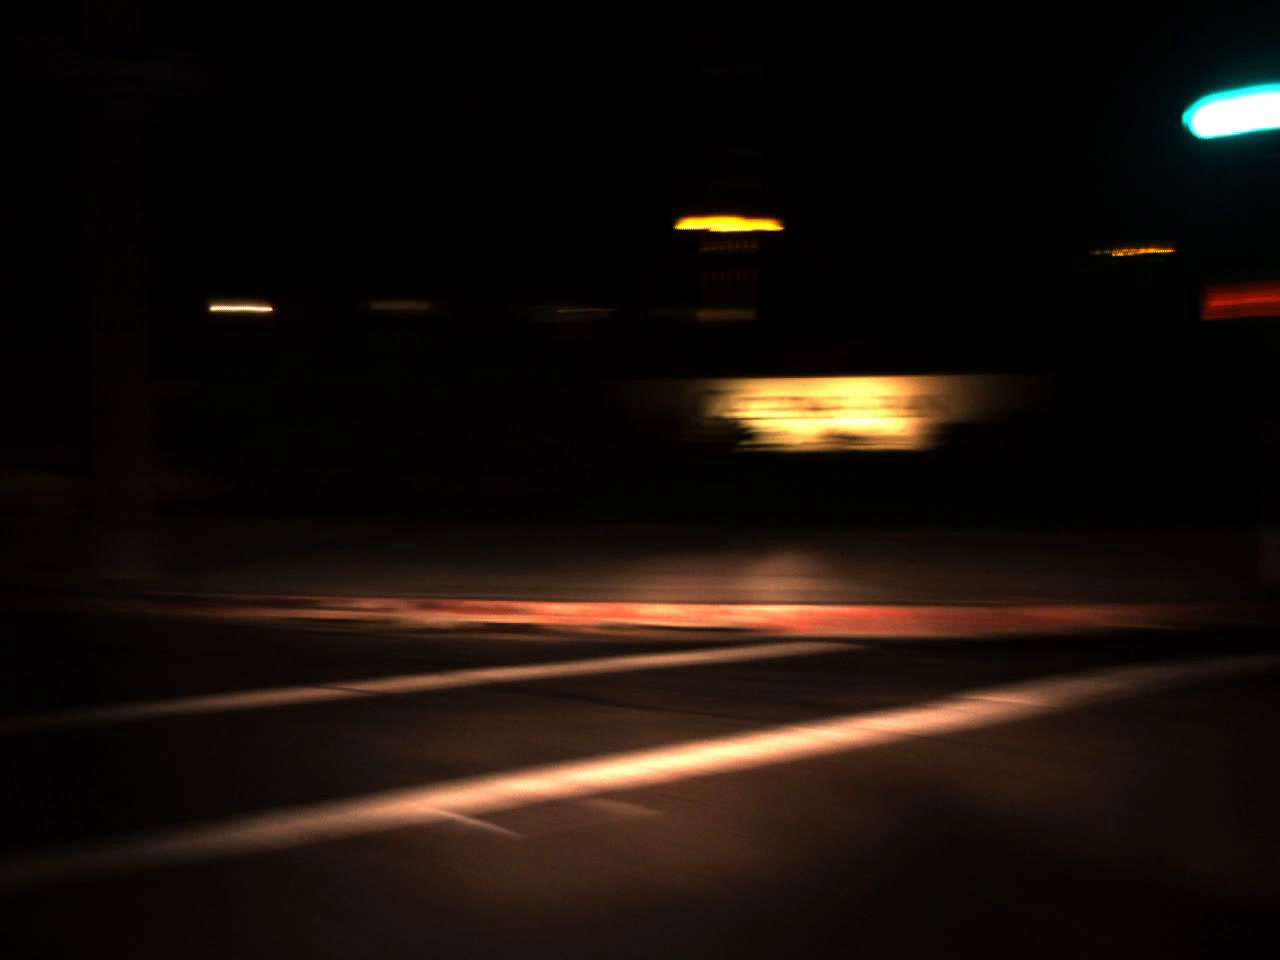go: (1166, 25, 1280, 154)
